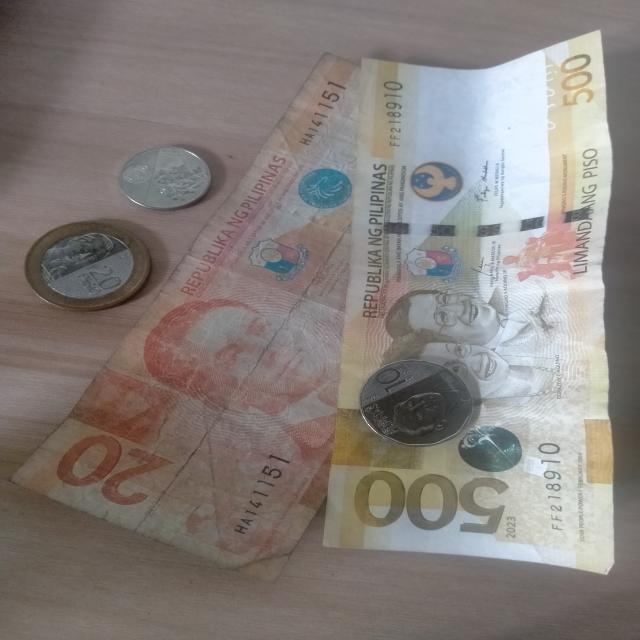10_New_Front: (374, 362, 421, 400)
20_New_Front: (61, 256, 138, 298)
security_thread: (367, 201, 612, 243)
serial_number: (214, 446, 298, 556), (286, 73, 350, 157), (532, 436, 572, 548), (371, 73, 416, 156)
